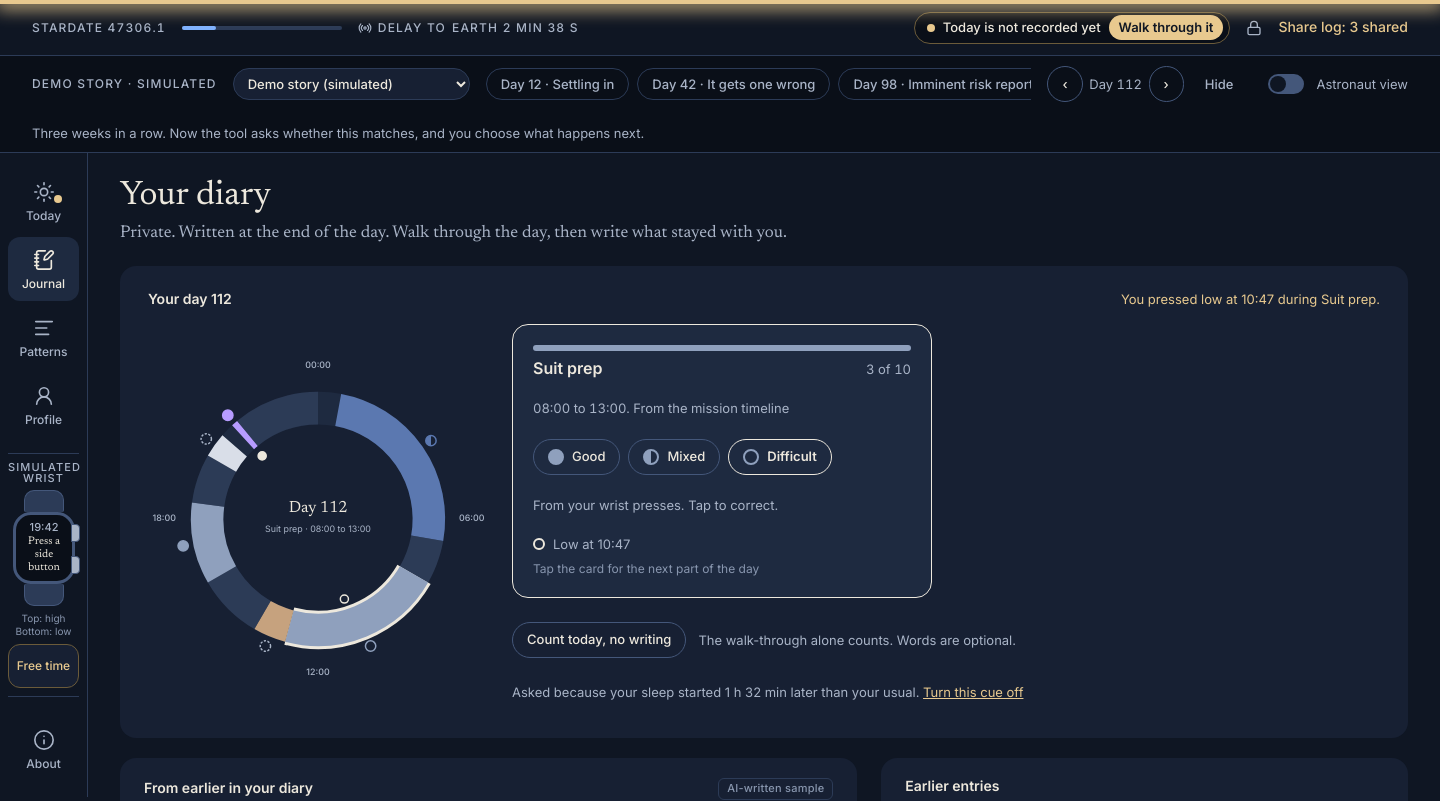
Test case: chapter chip sets the day, route and caption
The width and height of the screenshot is (1440, 801).
Click the button "Day 42 · It gets one wrong".
click(734, 84)  # box 637,68 -> 830,100
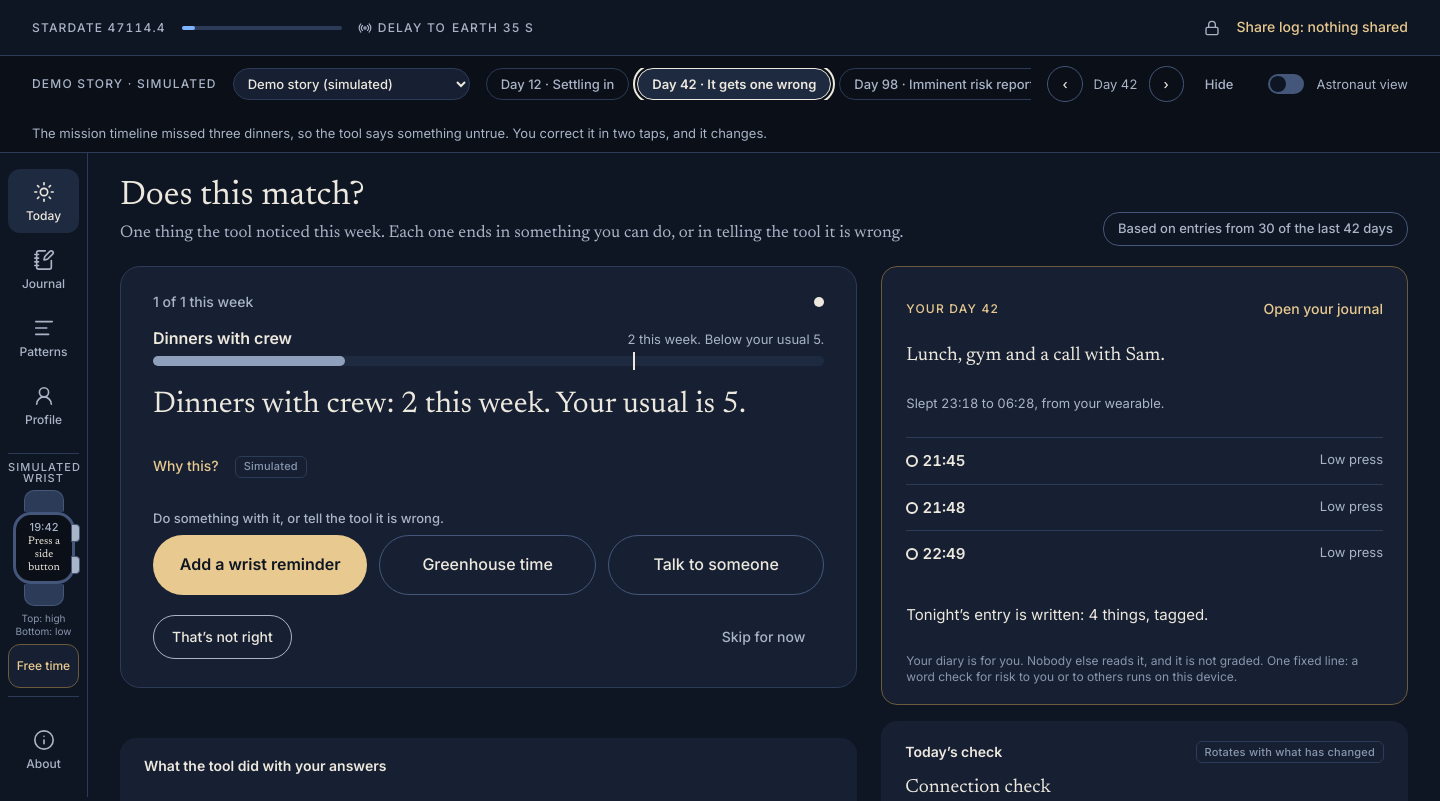
Expected: the text "The mission timeline missed three dinners, so the tool says something untrue. You correct it in two taps, and it changes" is shown, 32,125 -> 767,141
